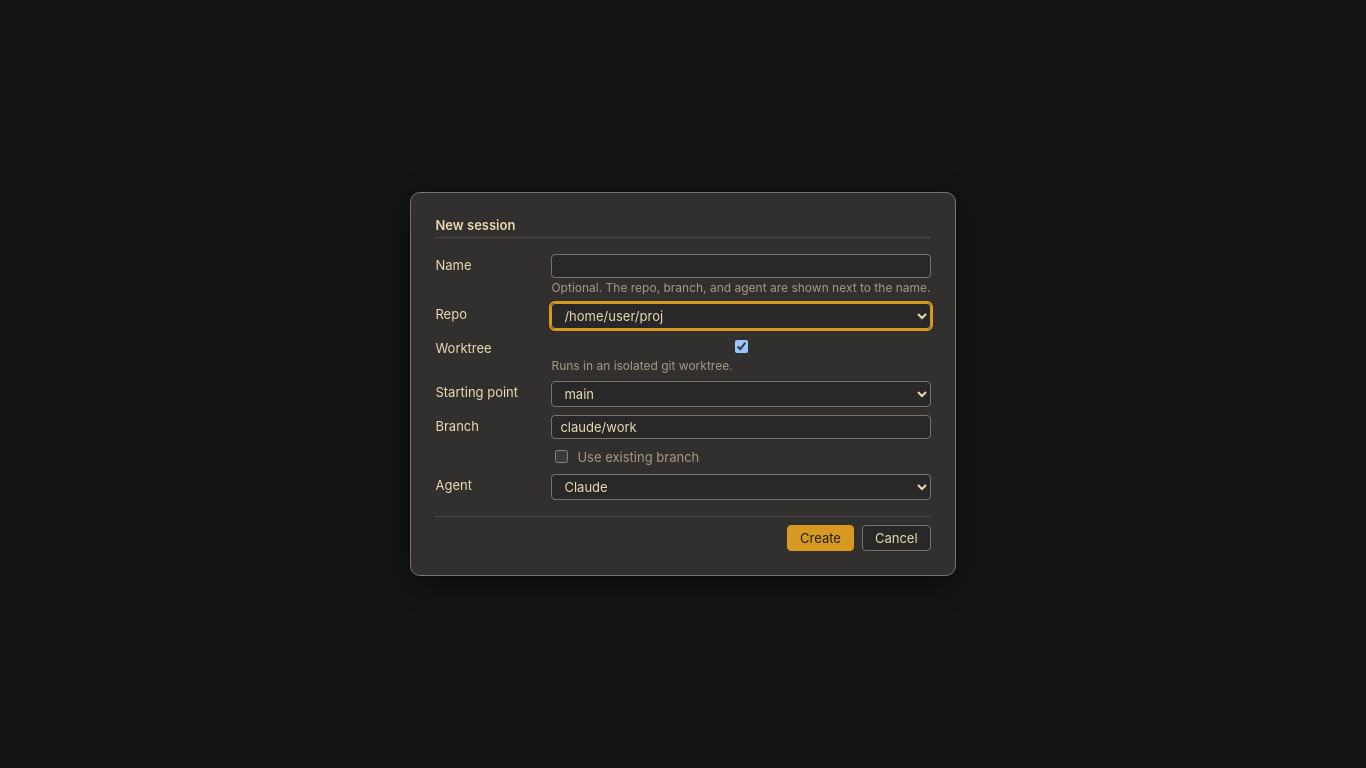
Starting point hidden when use-existing sub-toggle is on
Expected: the dropdown labelled "Starting point" is shown, [551, 381, 930, 407]
Click the checkbox labelled "Use existing branch" at (562,456), box [555, 450, 568, 463]
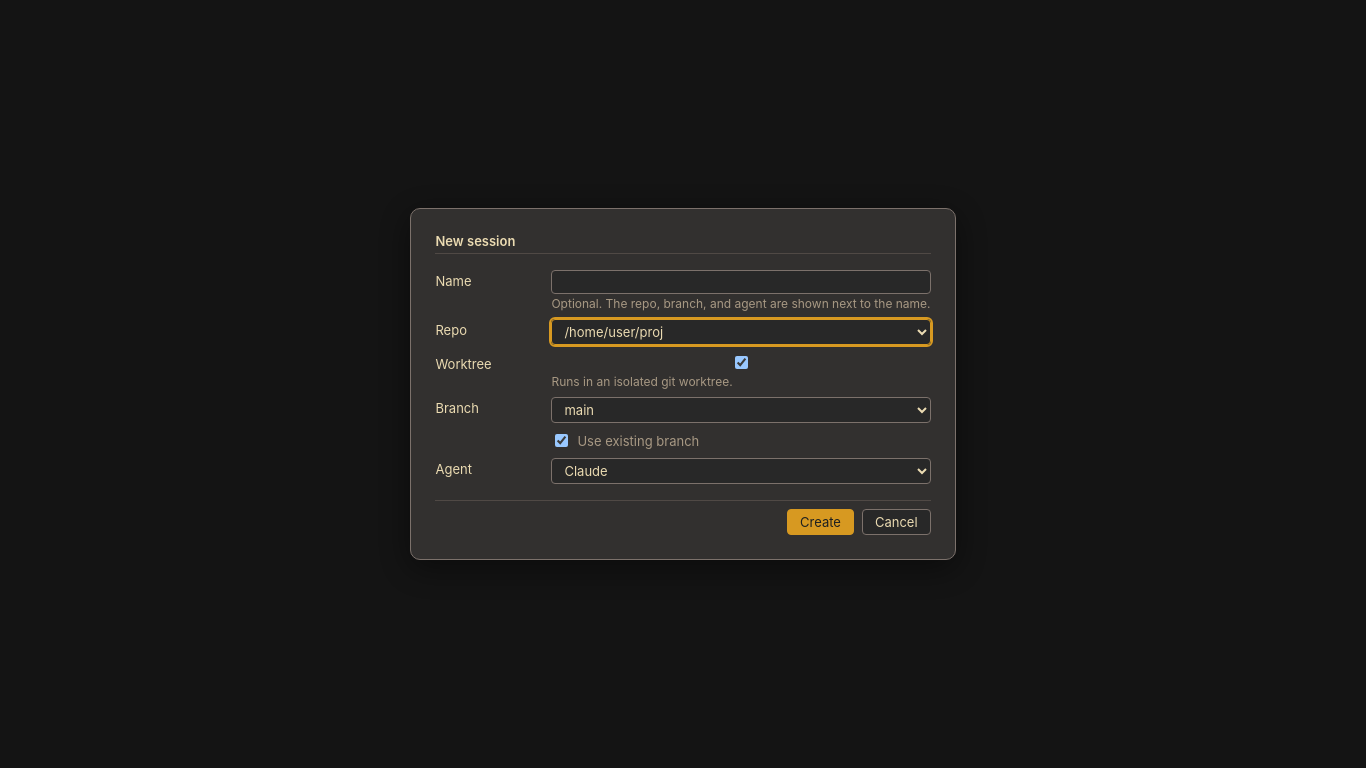
Expected: the text labelled "Starting point" is gone
